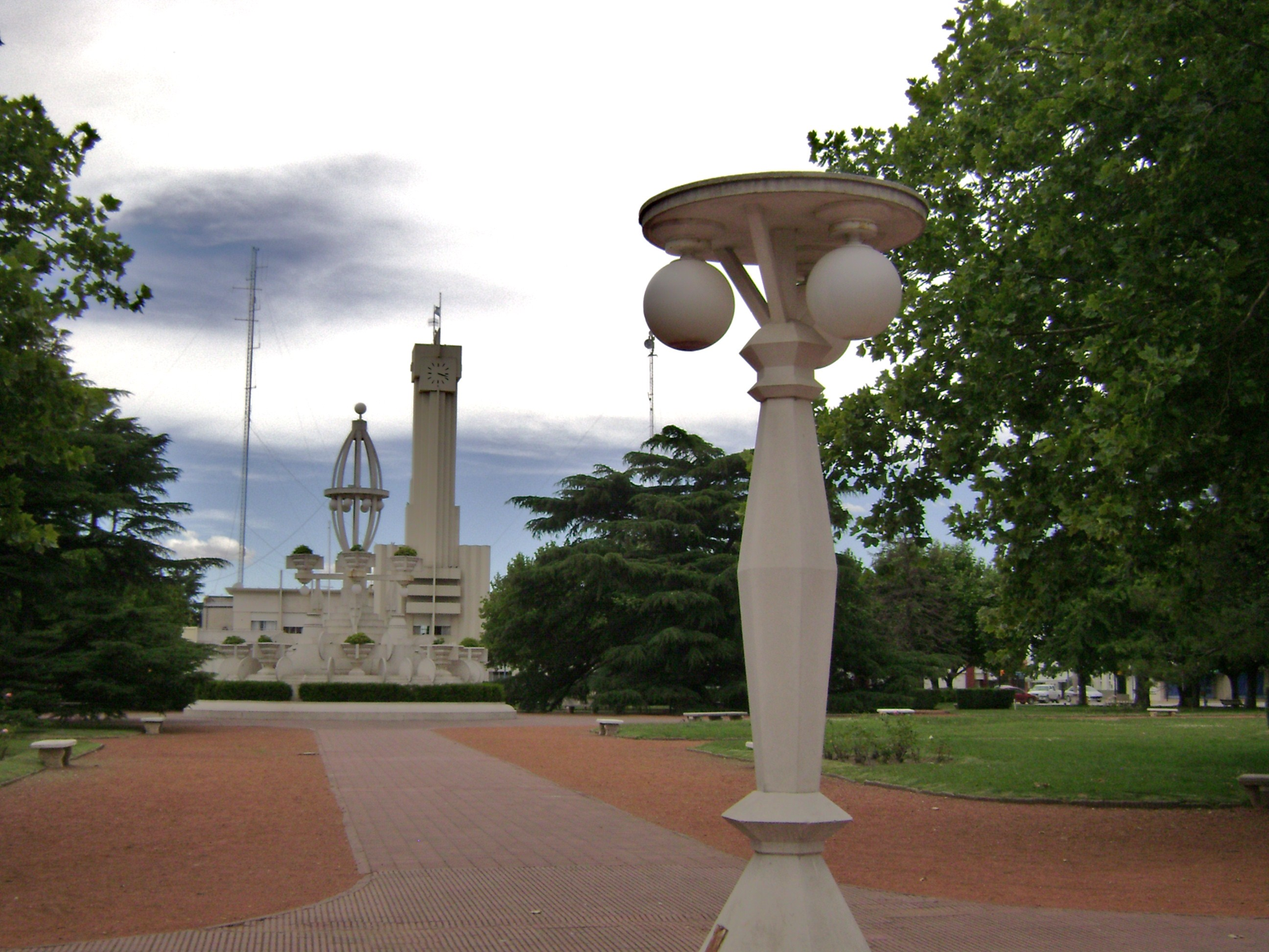fachada: (204, 296, 505, 706)
poste: (632, 151, 925, 952), (230, 233, 262, 595)
